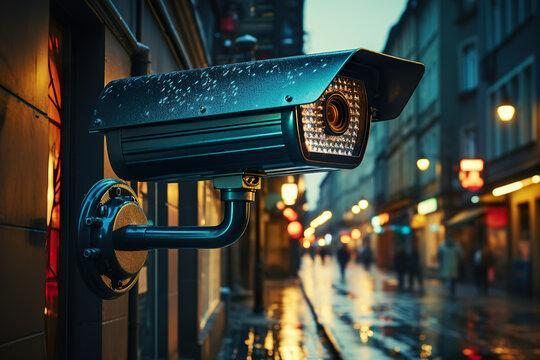camera: (54, 37, 429, 212)
